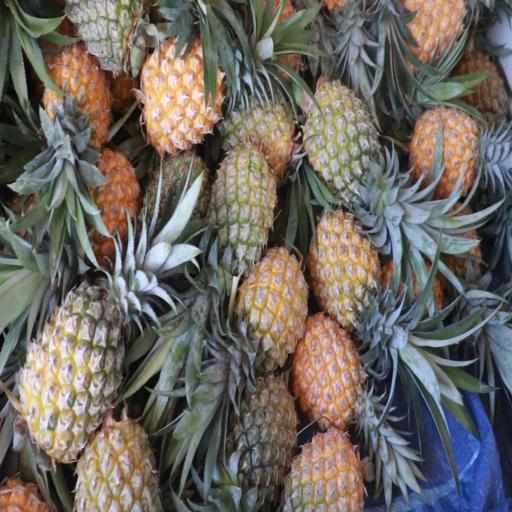------------------------------: (24, 288, 123, 458), (74, 422, 158, 512), (225, 76, 296, 176)
Pineapple - v8 v1: (142, 42, 224, 148), (407, 107, 495, 202), (309, 211, 382, 325), (294, 317, 364, 429), (239, 251, 304, 361), (43, 45, 109, 153), (82, 153, 138, 252)
